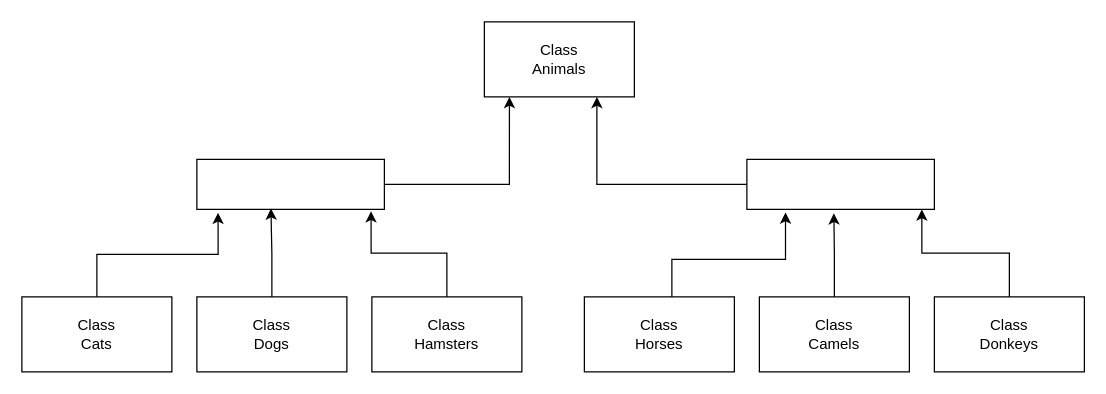
The diagram is 1106 pixels wide and 394 high, and some of its shapes have lost their labels. The centre of each missing label's shape, as x and y in pixels:
Class homeAnimals: [290,183]
Class packedAnimals: [840,183]
